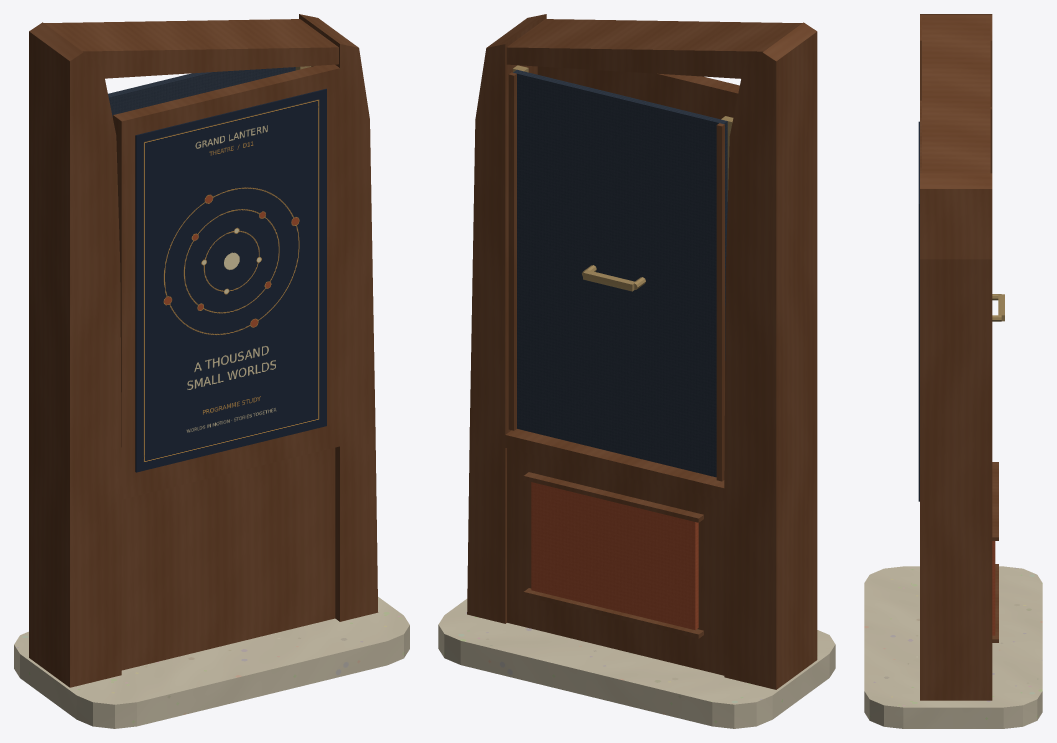
Rendered from AST-CUL-001.glb.
3 views of the same model, side by side, from view 1: azimuth 30°, elevation 25°; view 2: azimuth 150°, elevation 25°; view 3: azimuth 270°, elevation 25° (orthographic). The views are drawn at different scales.
Parts seen in each view (by area): view 1: AST-CUL-001__AST-CUL-001__warm_walnut, AST-CUL-001__AST-CUL-001__programme_original, AST-CUL-001__AST-CUL-001__warm_stone, AST-CUL-001__REAR_SERVICE_PANEL__auditorium_navy_fibre; view 2: AST-CUL-001__AST-CUL-001__warm_walnut, AST-CUL-001__REAR_SERVICE_PANEL__auditorium_navy_fibre, AST-CUL-001__AST-CUL-001__warm_stone, AST-CUL-001__AST-CUL-001__auditorium_amber_velvet, AST-CUL-001__REAR_SERVICE_PANEL__warm_walnut, AST-CUL-001__REAR_SERVICE_PANEL__champagne_metal; view 3: AST-CUL-001__AST-CUL-001__warm_walnut, AST-CUL-001__AST-CUL-001__warm_stone, AST-CUL-001__AST-CUL-001__programme_original, AST-CUL-001__AST-CUL-001__auditorium_amber_velvet.
Boxes of the visible parts, x1,y1,x2,y2 form: AST-CUL-001__AST-CUL-001__warm_walnut: (29,14,378,687); AST-CUL-001__AST-CUL-001__programme_original: (135,88,326,472); AST-CUL-001__AST-CUL-001__warm_stone: (14,597,409,728); AST-CUL-001__REAR_SERVICE_PANEL__auditorium_navy_fibre: (108,67,295,117); AST-CUL-001__AST-CUL-001__warm_walnut: (467,14,817,689); AST-CUL-001__REAR_SERVICE_PANEL__auditorium_navy_fibre: (513,69,727,477); AST-CUL-001__AST-CUL-001__warm_stone: (438,599,835,728); AST-CUL-001__AST-CUL-001__auditorium_amber_velvet: (531,482,698,630); AST-CUL-001__REAR_SERVICE_PANEL__warm_walnut: (508,72,724,481); AST-CUL-001__REAR_SERVICE_PANEL__champagne_metal: (582,265,645,291); AST-CUL-001__AST-CUL-001__warm_walnut: (920,14,998,700); AST-CUL-001__AST-CUL-001__warm_stone: (864,566,1042,728); AST-CUL-001__AST-CUL-001__programme_original: (918,121,919,501); AST-CUL-001__AST-CUL-001__auditorium_amber_velvet: (992,541,995,635).
Bounding box in the file's own units: 1.2 × 2.3 × 0.64.
Materials: 6 (6 with a texture image).
